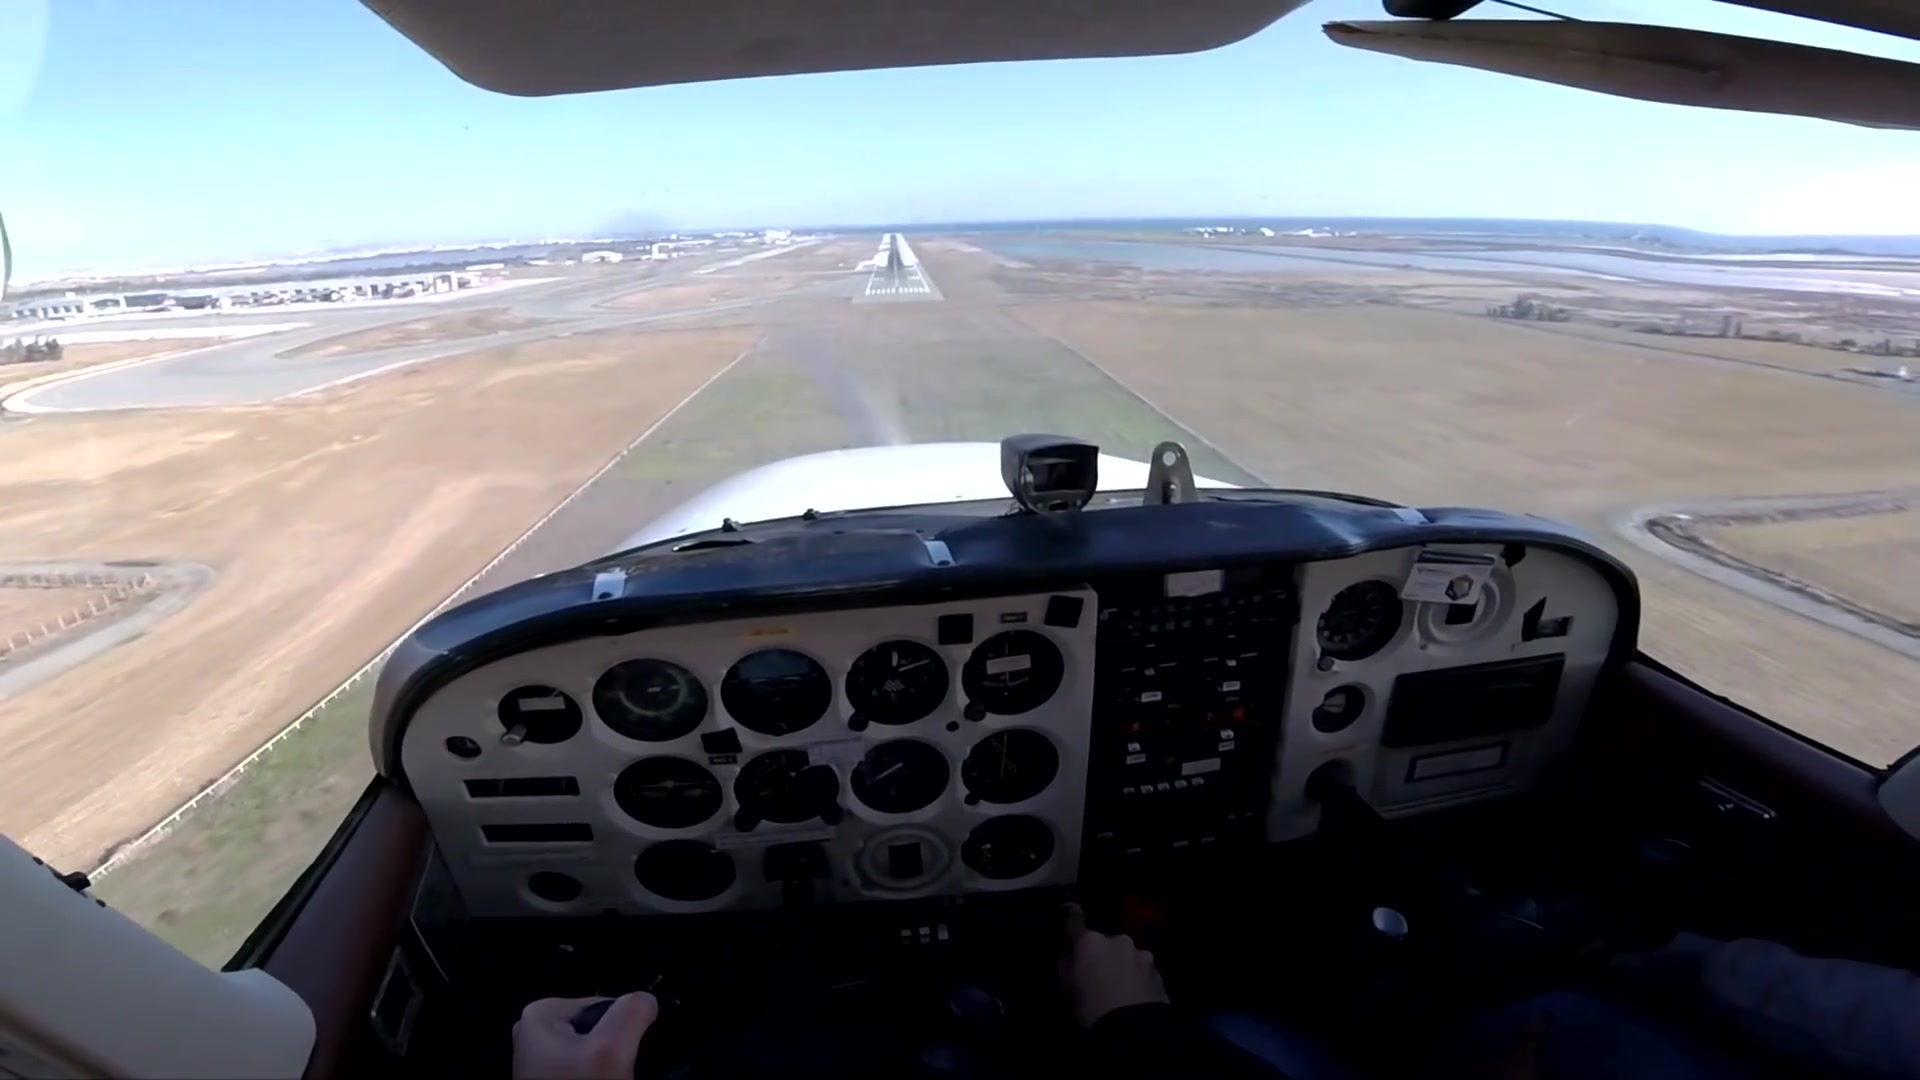entrance: (869, 284, 928, 294)
runway: (852, 232, 944, 302)
